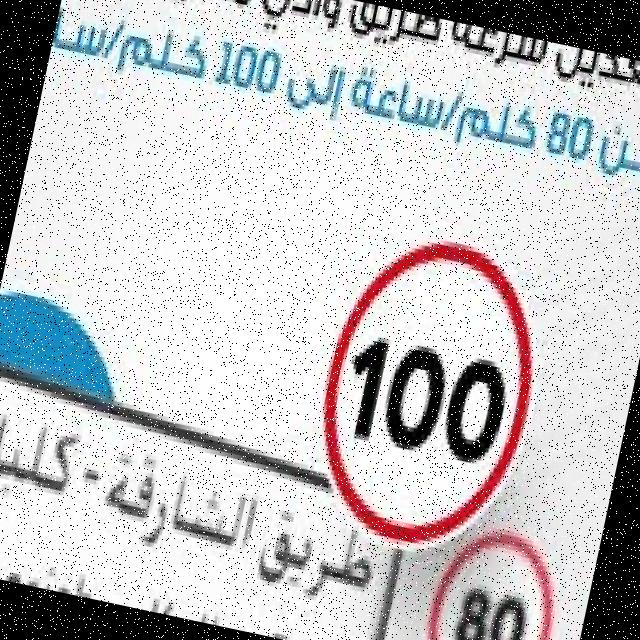speed_limit_100: (288, 212, 563, 566)
